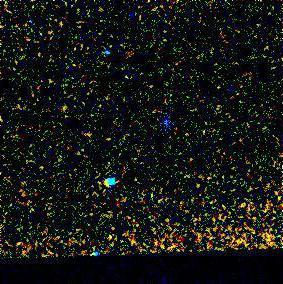star: (48, 94, 78, 124)
